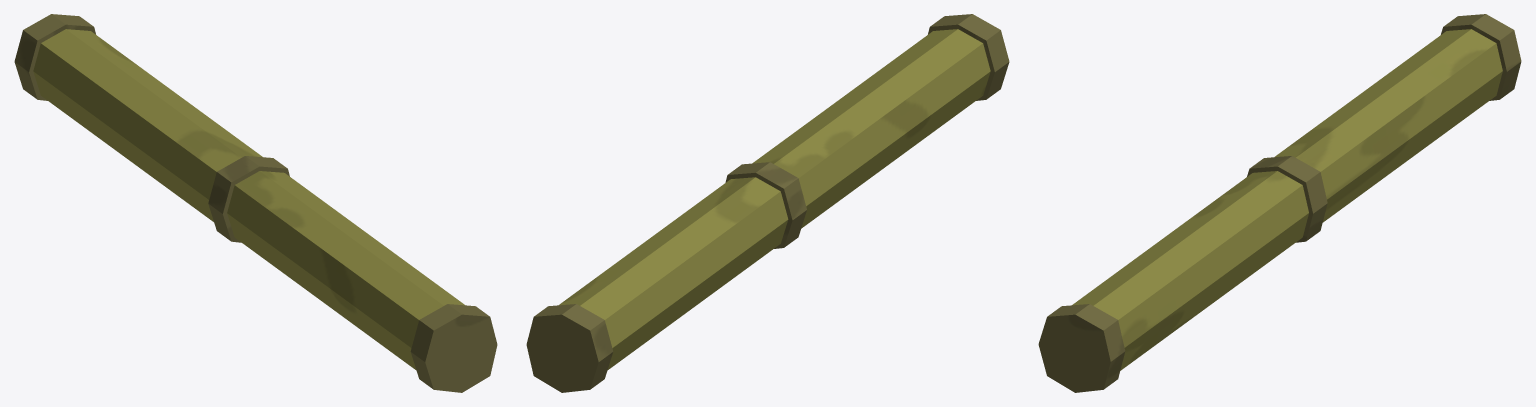
Rendered from item-bamboo-bat.glb.
3 views of the same model, side by side, from view 1: azimuth 30°, elevation 25°; view 2: azimuth 150°, elevation 25°; view 3: azimuth 330°, elevation 25° (orthographic).
Size of the model in its own units: 0.0615 by 0.0636 by 0.6046.
Materials: 2 (2 with a texture image).
